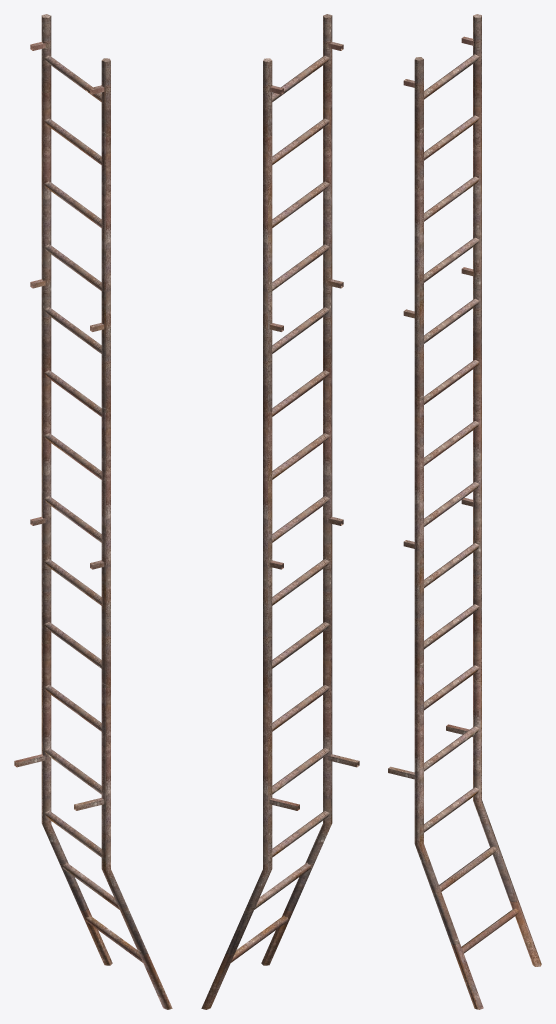
File: big_pipe.glb
The picture shows the model from 3 angles, left to right: view 1: azimuth 30°, elevation 25°; view 2: azimuth 150°, elevation 25°; view 3: azimuth 330°, elevation 25°; orthographic projection. The views are drawn at different scales.
Visible parts, largest first — view 1: Cylinder; view 2: Cylinder; view 3: Cylinder.
Boxes of the visible parts, <box> form: Cylinder: <box>14,14,172,1009</box>; Cylinder: <box>201,14,359,1009</box>; Cylinder: <box>388,14,541,1009</box>.
Bounding box in the file's own units: 0.7841 × 7.46 × 0.9012.
Materials: 1 (1 with a texture image).
